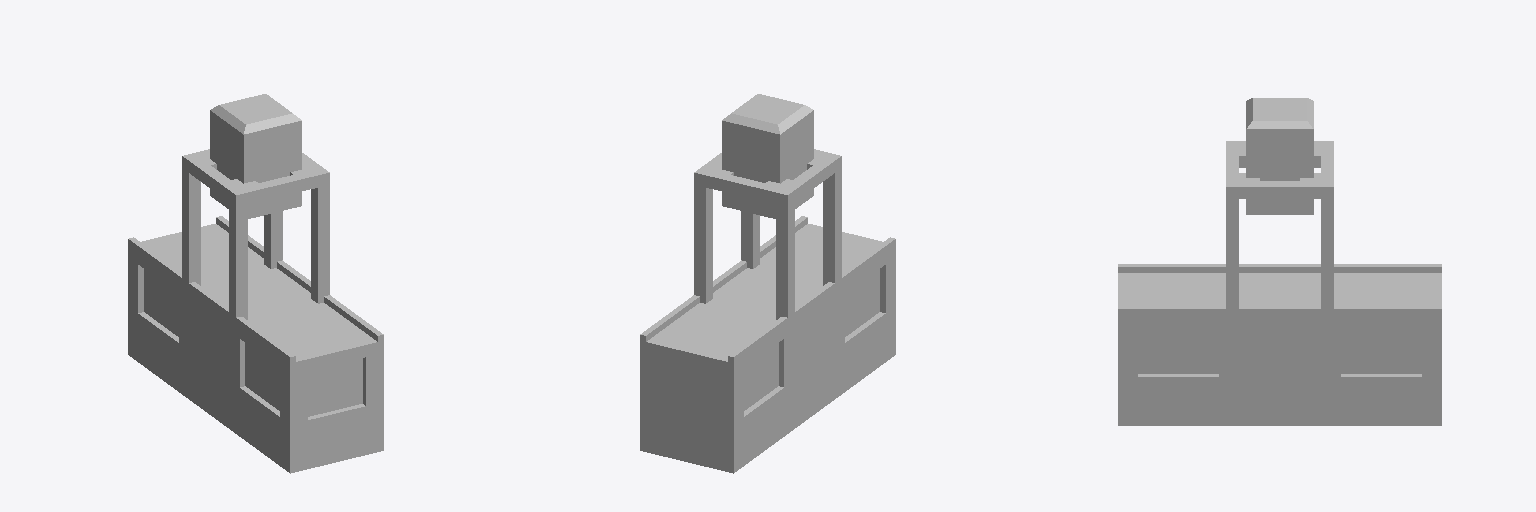
File: metalPress.obj
The picture shows the model from 3 angles: view 1: azimuth 30°, elevation 25°; view 2: azimuth 150°, elevation 25°; view 3: azimuth 270°, elevation 25°; orthographic projection.
Parts seen in each view (by area): view 1: base, conveyors; view 2: base, conveyors; view 3: base, conveyors.
Part boxes in pixels (bbox=[...]): base: bbox=[128, 94, 383, 473]; conveyors: bbox=[141, 224, 377, 373]; base: bbox=[640, 94, 895, 473]; conveyors: bbox=[646, 224, 882, 373]; base: bbox=[1118, 98, 1441, 425]; conveyors: bbox=[1118, 273, 1441, 306].
Size of the model in its own units: 1 by 3 by 3.